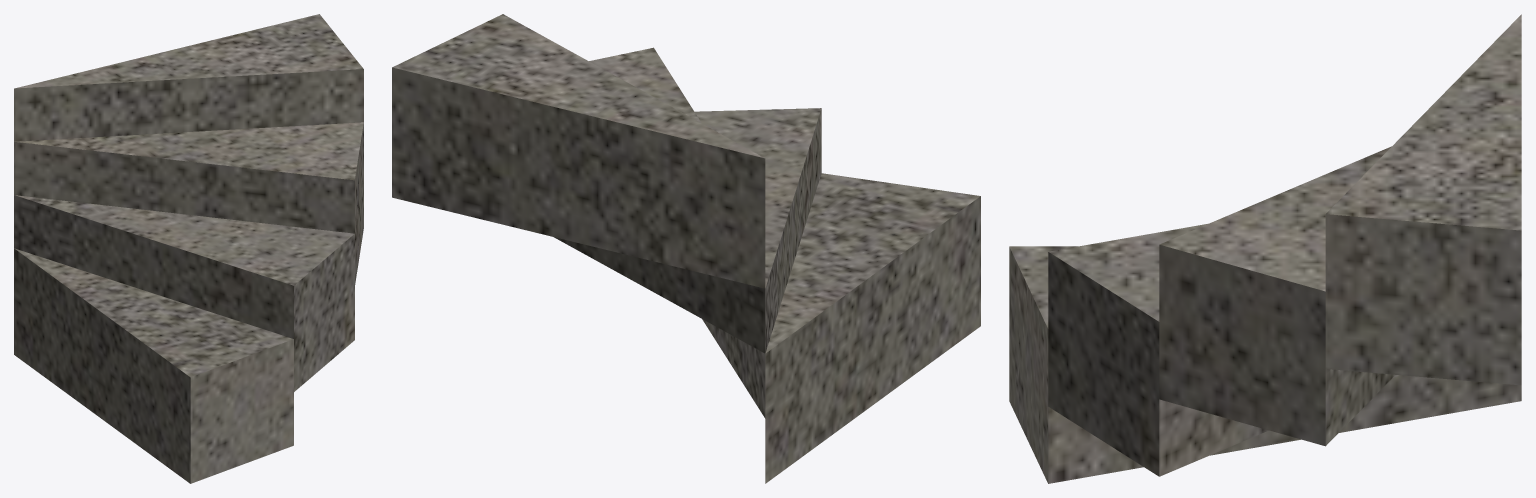
File: SpiralStairsR1mC.obj
The picture shows the model from 3 angles, left to right: view 1: azimuth 30°, elevation 25°; view 2: azimuth 150°, elevation 25°; view 3: azimuth 270°, elevation 25°; orthographic projection. The views are drawn at different scales.
Bounding box in the file's own units: 1 × 0.8333 × 1.
Materials: 1 (1 with a texture image).
